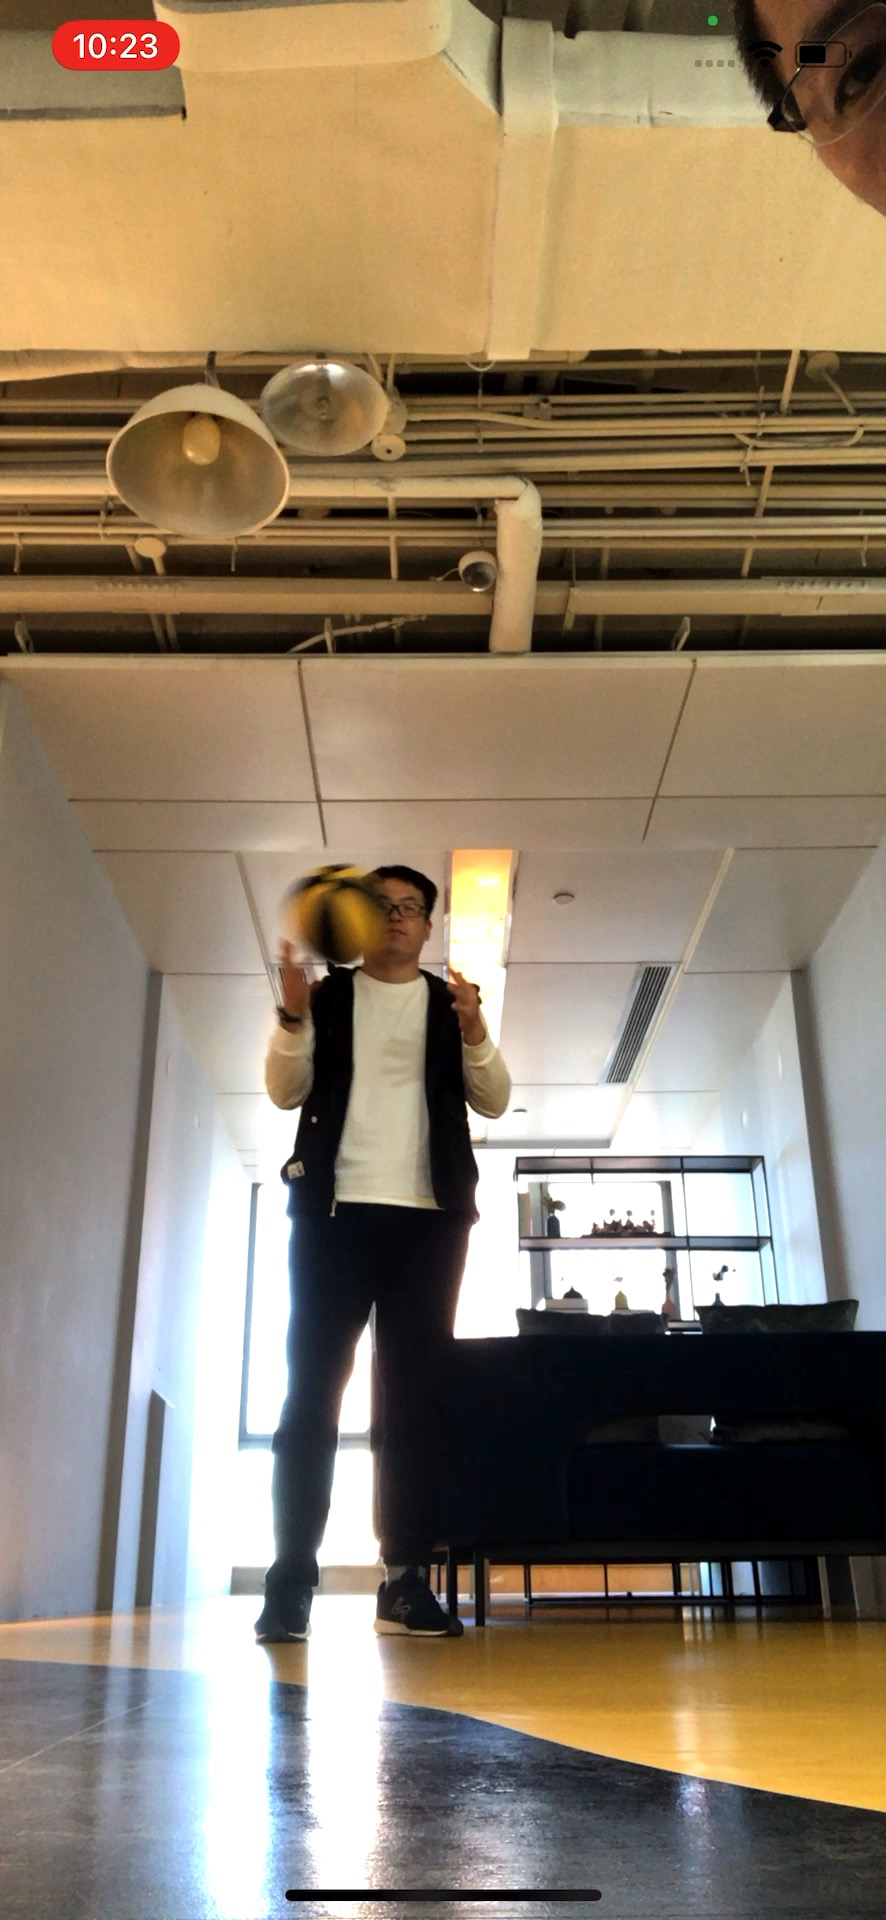ball: (288, 863, 384, 965)
